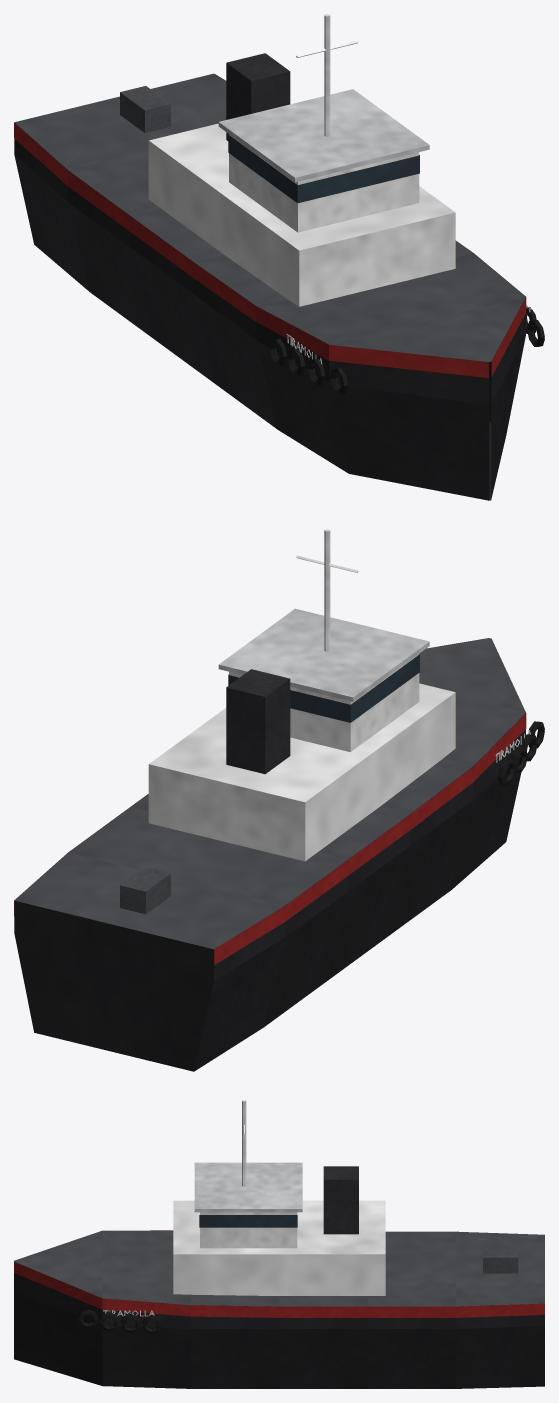
File: SM_MoloItalia_Rimorchiatore_Tiramolla_LOD1.fbx
3 renders of one model, top to bottom at view 1: azimuth 30°, elevation 25°; view 2: azimuth 150°, elevation 25°; view 3: azimuth 270°, elevation 25°, orthographic. The views are drawn at different scales.
Parts seen in each view (by area): view 1: SM_MoloItalia_Rimorchiatore_Tiramolla_LOD1; view 2: SM_MoloItalia_Rimorchiatore_Tiramolla_LOD1; view 3: SM_MoloItalia_Rimorchiatore_Tiramolla_LOD1.
Boxes of the visible parts, x1,y1,x2,y2 form: SM_MoloItalia_Rimorchiatore_Tiramolla_LOD1: (14, 14, 544, 500); SM_MoloItalia_Rimorchiatore_Tiramolla_LOD1: (14, 529, 544, 1071); SM_MoloItalia_Rimorchiatore_Tiramolla_LOD1: (14, 1100, 544, 1388).
Size of the model in its own units: 1080 by 3000 by 1610.
Materials: 1 (1 with a texture image).
